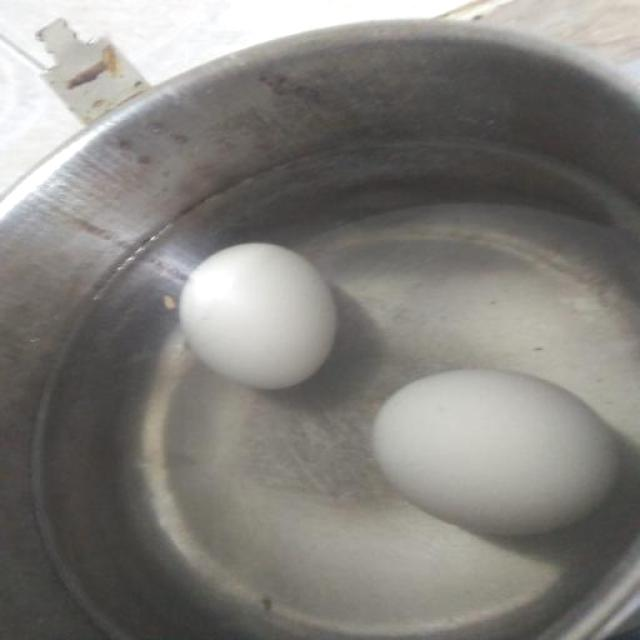telur: (372, 368, 616, 540), (181, 243, 338, 389)
